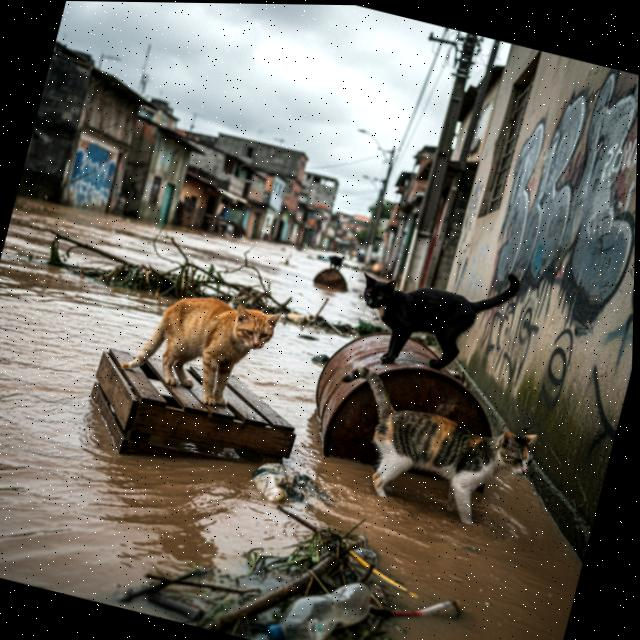cat: (307, 351, 558, 545), (334, 235, 533, 397), (110, 275, 286, 426), (322, 249, 351, 274)
